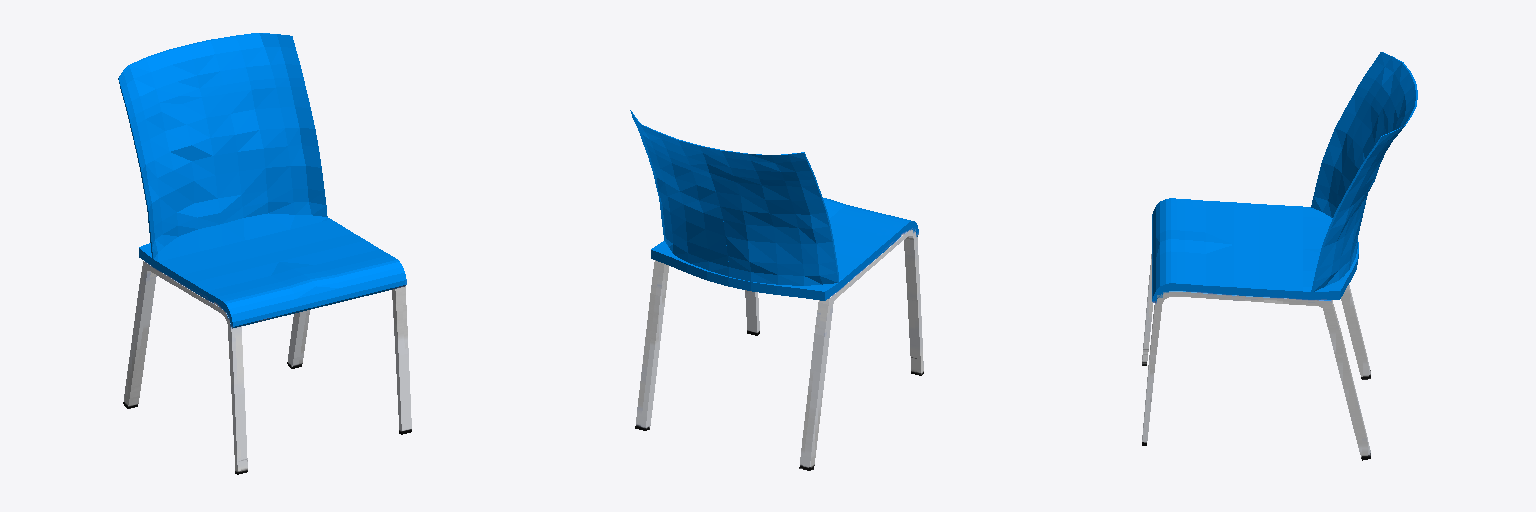
3 renders of one model, left to right at view 1: azimuth 30°, elevation 25°; view 2: azimuth 150°, elevation 25°; view 3: azimuth 270°, elevation 25°, orthographic.
Parts seen in each view (by area): view 1: pCube1; view 2: pCube1; view 3: pCube1.
Part boxes in pixels (bbox=[...]): pCube1: bbox=[118, 33, 411, 474]; pCube1: bbox=[630, 110, 923, 470]; pCube1: bbox=[1142, 52, 1417, 460].
Bounding box in the file's own units: 15.83 × 28.11 × 21.69.
Materials: 1 (1 with a texture image).